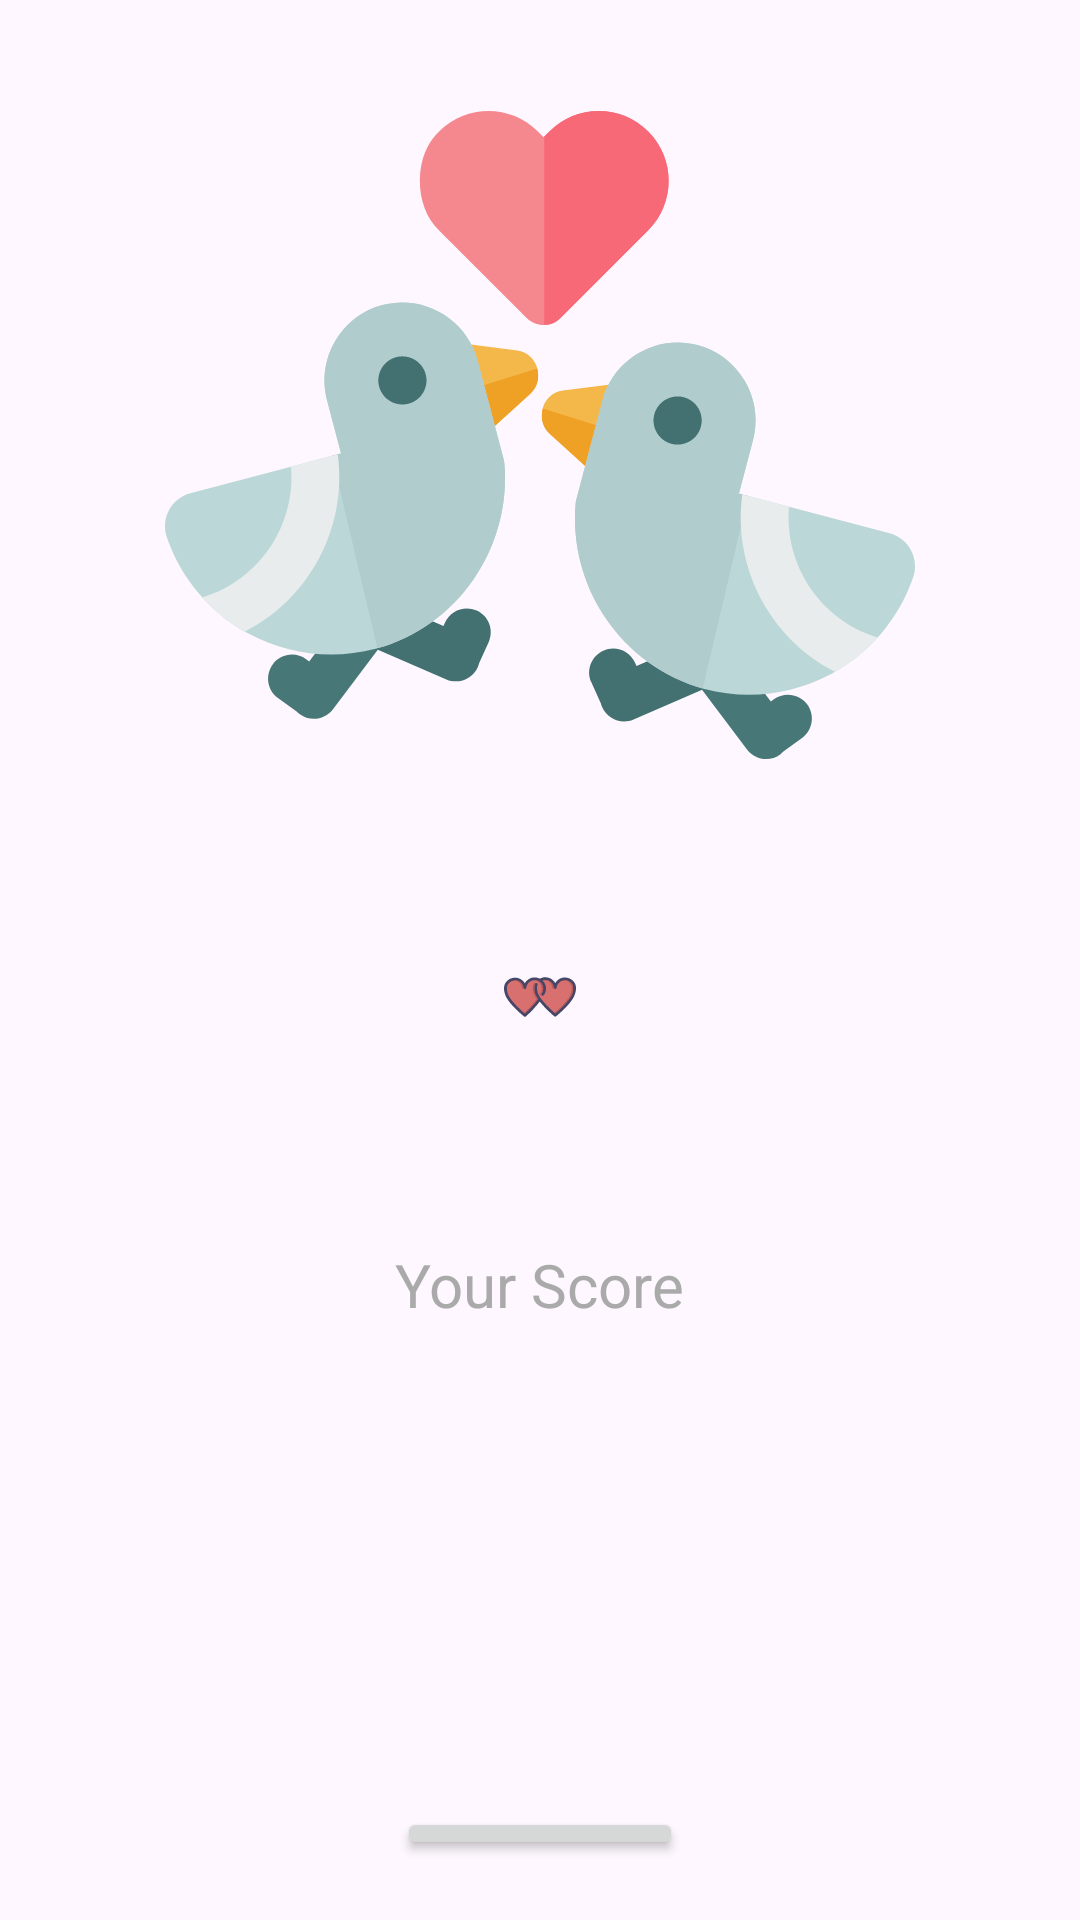

Screen size 1080×1920. Icon name, then its box in pixels as bbox=[x1, y1, x2, y2]:
lovee: bbox=[504, 977, 576, 1017]
